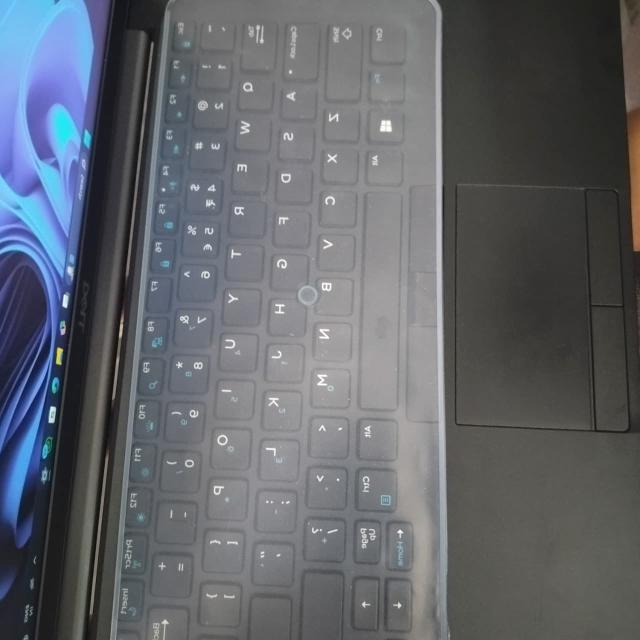laptop: (0, 1, 632, 626)
